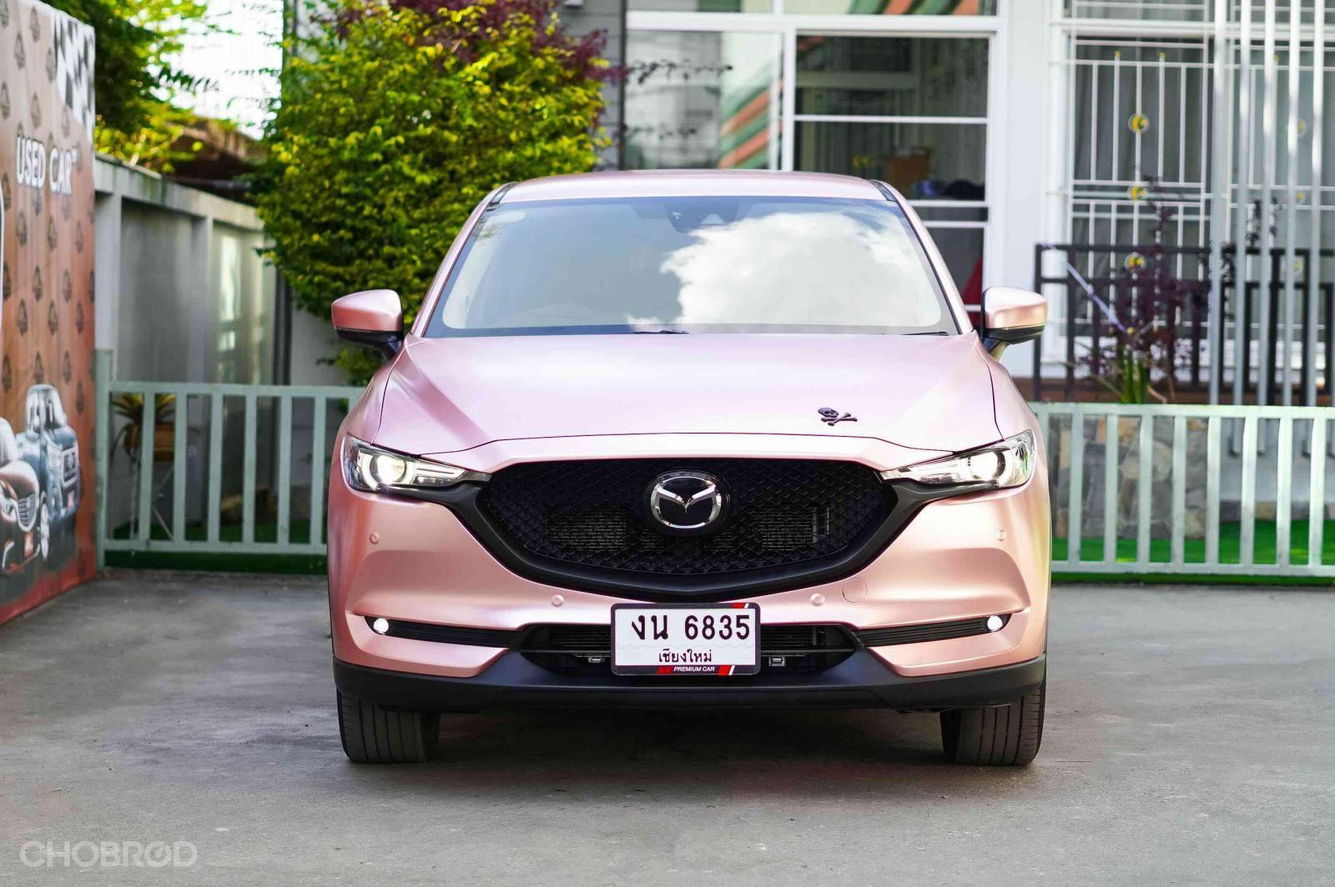license-plate: (607, 601, 764, 680)
